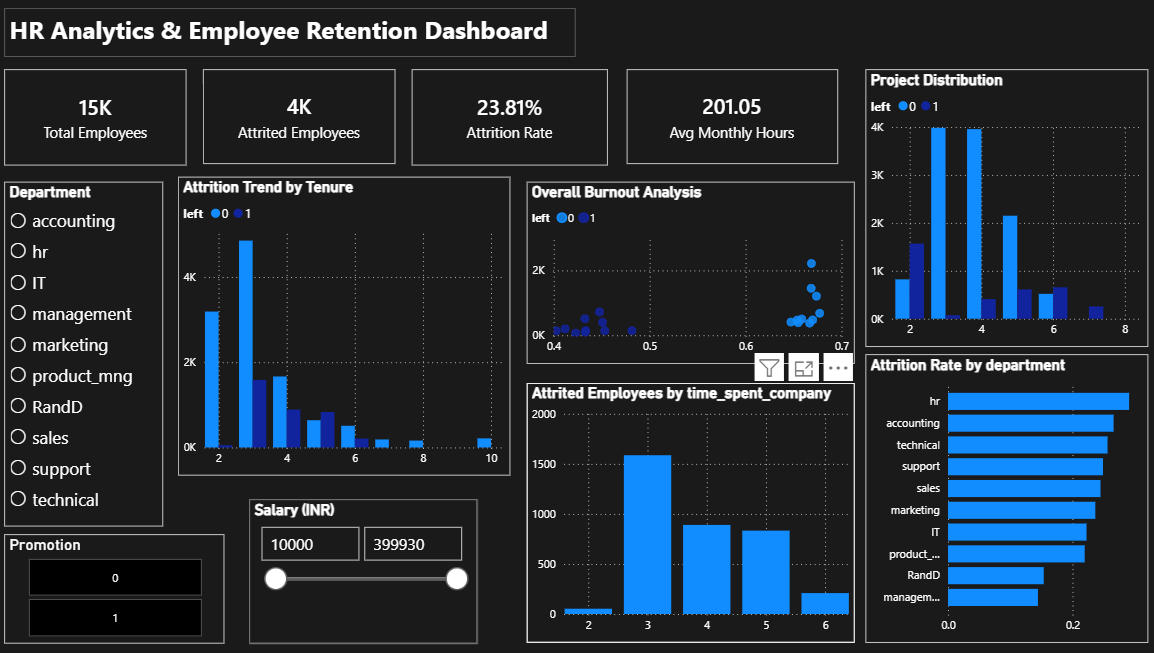

The page's visual inventory and layout, read from the dashboard file:
{"tool":"powerbi","page":{"name":"Executive Overview","canvas":[1280,720],"ordinal":0},"visuals":[{"type":"cardVisual","fields":{"Data":["Cleaned_Employee_HR.Overall Attrition Rate"]},"box":[459.7,78.2,215.4,105.7],"z":0},{"type":"cardVisual","fields":{"Data":["Cleaned_Employee_HR.Total Employees"]},"box":[12.3,78.2,200.3,105.7],"z":1000},{"type":"clusteredBarChart","title":" Attrition Rate by department","fields":{"Category":["Cleaned_Employee_HR.department"],"Y":["Cleaned_Employee_HR.Overall Attrition Rate"]},"box":[957.8,391.1,310,316.7],"z":2000},{"type":"clusteredColumnChart","title":"Attrition Trend by Tenure","fields":{"Y":["CountNonNull(Cleaned_Employee_HR.left)"],"Category":["Cleaned_Employee_HR.time_spent_company"],"Series":["Cleaned_Employee_HR.left"]},"box":[203.1,196.2,365,328.3],"z":3000},{"type":"scatterChart","title":"Overall Burnout Analysis","fields":{"Series":["Cleaned_Employee_HR.left"],"X":["Avg(Cleaned_Employee_HR.satisfaction)"],"Y":["Sum(Cleaned_Employee_HR.evaluation)"],"Category":["Cleaned_Employee_HR.department"]},"box":[585.9,201.7,360,200],"z":4000},{"type":"listSlicer","title":"Department","fields":{"Values":["Cleaned_Employee_HR.department"]},"box":[12.3,201.7,174.3,378.7],"z":5000},{"type":"slicer","title":"Salary (INR)","fields":{"Values":["Cleaned_Employee_HR.salary_inr"]},"box":[281.3,550.3,250,158.3],"z":6000},{"type":"cardVisual","fields":{"Data":["Cleaned_Employee_HR.Attrited Employees"]},"box":[230.5,78.2,211.3,104.3],"z":7000},{"type":"cardVisual","fields":{"Data":["Cleaned_Employee_HR.Avg Monthly Hours"]},"box":[695.7,78.2,231.9,104.3],"z":8000},{"type":"clusteredColumnChart","fields":{"Category":["Cleaned_Employee_HR.time_spent_company"],"Y":["Cleaned_Employee_HR.Attrited Employees"]},"box":[585.9,422.6,360,285],"z":9000},{"type":"clusteredColumnChart","title":"Project Distribution","fields":{"Category":["Cleaned_Employee_HR.number_of_projects"],"Y":["Cleaned_Employee_HR.Total Employees"],"Series":["Cleaned_Employee_HR.left"]},"box":[957.8,78.2,310,305],"z":10000},{"type":"slicer","title":"Promotion","fields":{"Values":["Cleaned_Employee_HR.promotion"]},"box":[11.7,588.3,241.7,120],"z":11000},{"type":"textbox","box":[100.2,11,1085.4,67.2],"z":11001}]}

Visuals, with their boxes in screenshot pixels (x1, y1, x2, y2), scaled from the page's 1280x720 canvas onto the 1154x653 screenshot:
cardVisual - Cleaned_Employee_HR.Overall Attrition Rate: {"left": 414, "top": 71, "right": 609, "bottom": 167}
cardVisual - Cleaned_Employee_HR.Total Employees: {"left": 11, "top": 71, "right": 192, "bottom": 167}
" Attrition Rate by department" clusteredBarChart: {"left": 864, "top": 355, "right": 1143, "bottom": 642}
"Attrition Trend by Tenure" clusteredColumnChart: {"left": 183, "top": 178, "right": 512, "bottom": 476}
"Overall Burnout Analysis" scatterChart: {"left": 528, "top": 183, "right": 853, "bottom": 364}
"Department" listSlicer: {"left": 11, "top": 183, "right": 168, "bottom": 526}
"Salary (INR)" slicer: {"left": 254, "top": 499, "right": 479, "bottom": 643}
cardVisual - Cleaned_Employee_HR.Attrited Employees: {"left": 208, "top": 71, "right": 398, "bottom": 166}
cardVisual - Cleaned_Employee_HR.Avg Monthly Hours: {"left": 627, "top": 71, "right": 836, "bottom": 166}
clusteredColumnChart - Cleaned_Employee_HR.time_spent_company x Cleaned_Employee_HR.Attrited Employees: {"left": 528, "top": 383, "right": 853, "bottom": 642}
"Project Distribution" clusteredColumnChart: {"left": 864, "top": 71, "right": 1143, "bottom": 348}
"Promotion" slicer: {"left": 11, "top": 534, "right": 228, "bottom": 642}
textbox: {"left": 90, "top": 10, "right": 1069, "bottom": 71}
